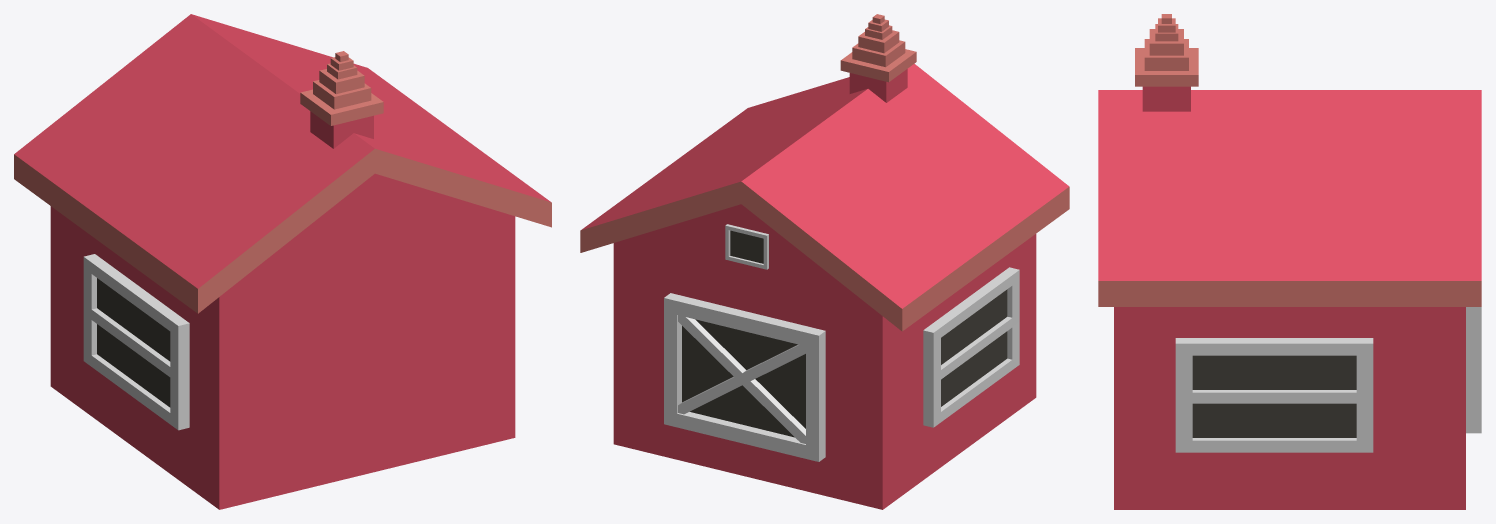
The model's file is Samanlik_2.fbx.
The picture shows the model from 3 angles, left to right: view 1: azimuth 30°, elevation 25°; view 2: azimuth 150°, elevation 25°; view 3: azimuth 270°, elevation 25°; orthographic projection. The views are drawn at different scales.
Visible parts, largest first — view 1: Samanlik_2; view 2: Samanlik_2; view 3: Samanlik_2.
Boxes of the visible parts, x1=… form: Samanlik_2: x1=14, y1=14, x2=551, y2=509; Samanlik_2: x1=580, y1=14, x2=1069, y2=509; Samanlik_2: x1=1098, y1=14, x2=1481, y2=509.
Bounding box in the file's own units: 735 × 797 × 662.
